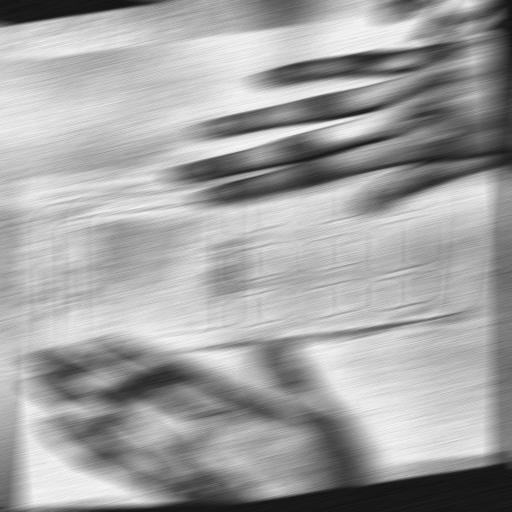mobile: (0, 132, 508, 382)
